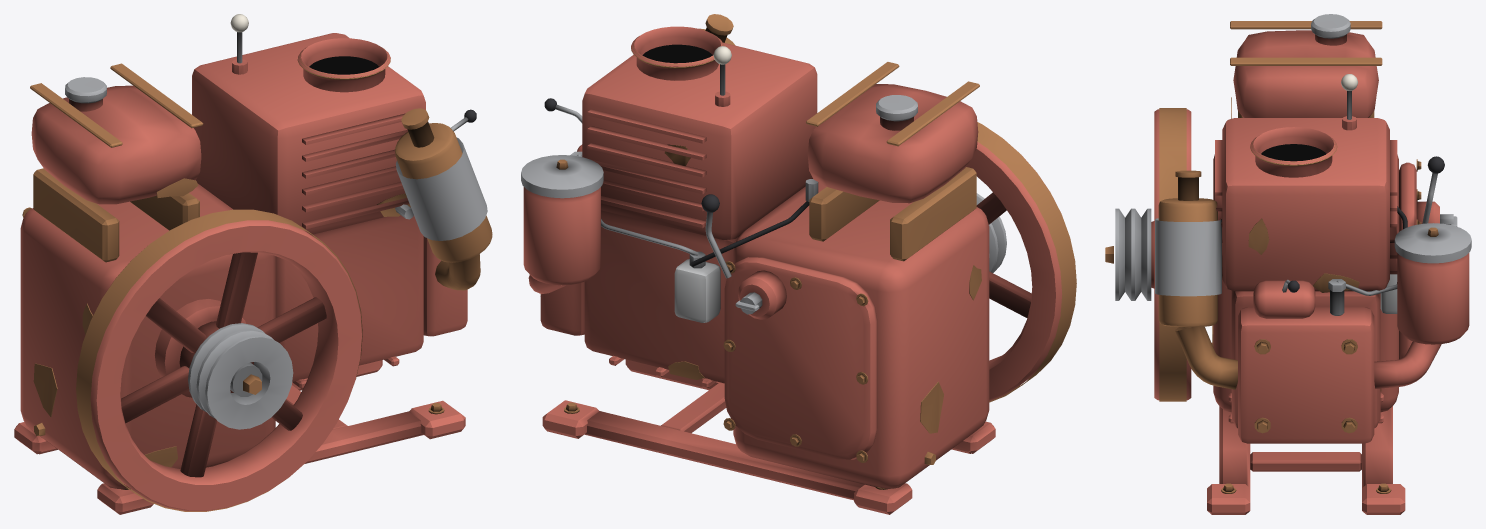
Rendered from eng_d1.glb.
3 renders of one model, left to right at view 1: azimuth 30°, elevation 25°; view 2: azimuth 150°, elevation 25°; view 3: azimuth 270°, elevation 25°, orthographic. The views are drawn at different scales.
Parts seen in each view (by area): view 1: PART; view 2: PART; view 3: PART.
Boxes of the visible parts, x1,y1,x2,y2 form: PART: (14,14,492,514); PART: (521,14,1076,514); PART: (1105,14,1471,514).
Bounding box in the file's own units: 0.796 × 0.664 × 0.591.
